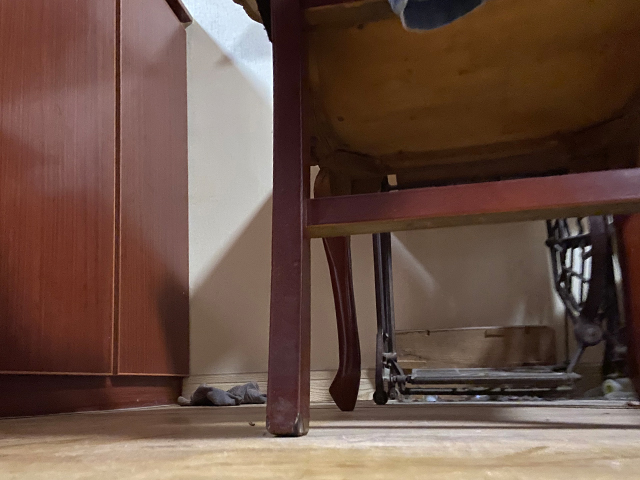cabinet: (1, 1, 193, 416)
socks: (176, 381, 267, 407)
stool: (229, 1, 640, 437)
